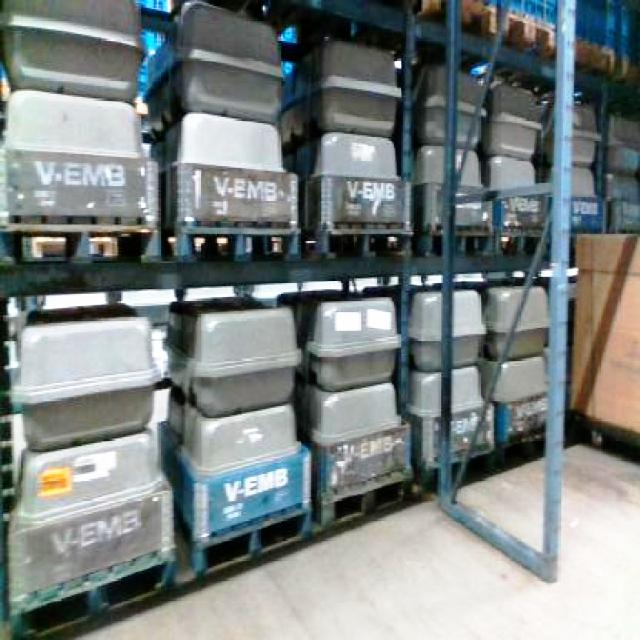ground: (12, 440, 638, 638)
pallet: (5, 265, 574, 640), (0, 90, 562, 266), (417, 0, 639, 95), (568, 229, 638, 466)
